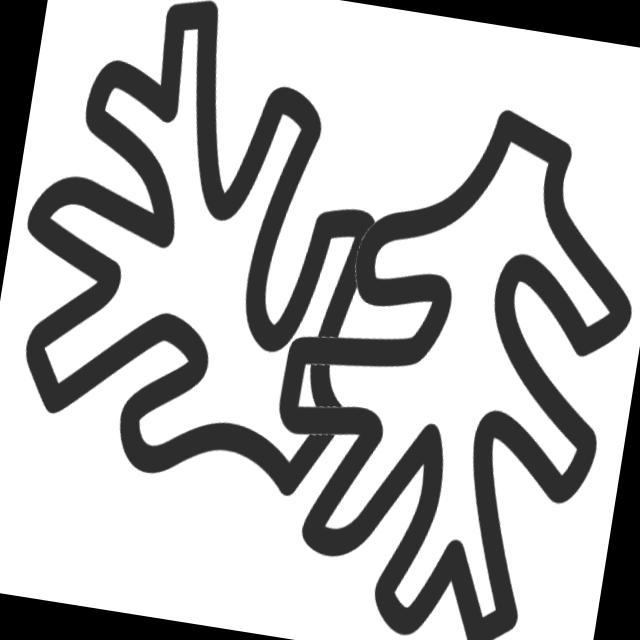coral: (236, 72, 640, 640), (1, 1, 425, 522)
